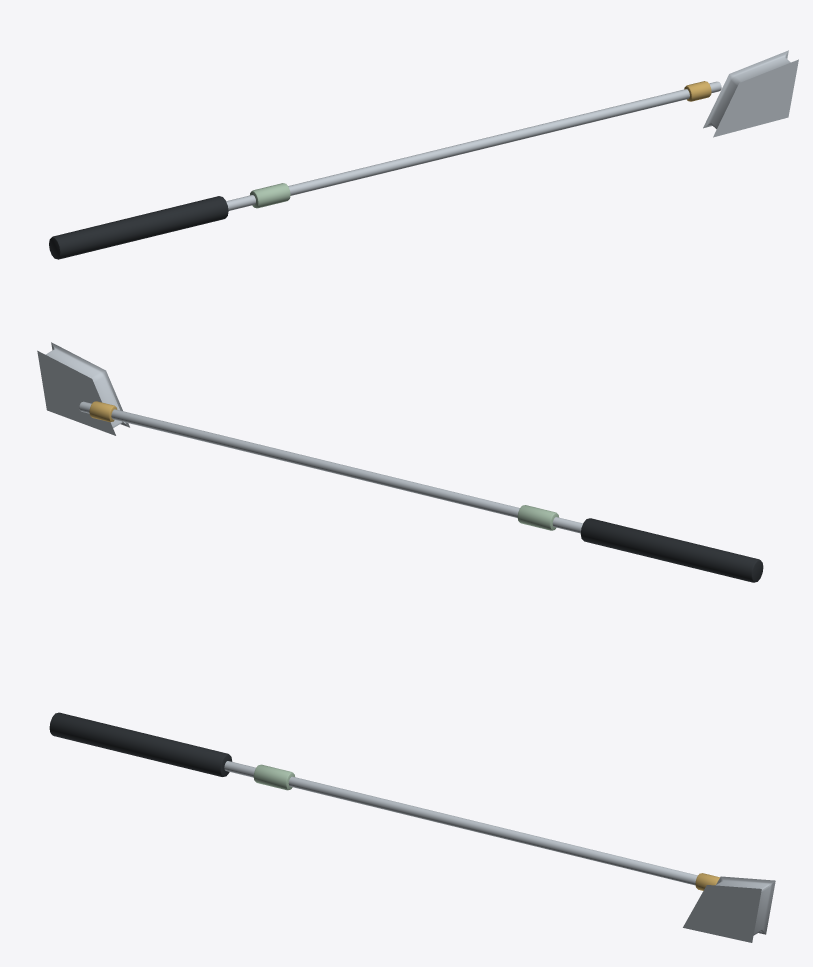
The model's file is checkout_product_wedge.glb.
3 renders of one model, top to bottom at view 1: azimuth 30°, elevation 25°; view 2: azimuth 150°, elevation 25°; view 3: azimuth 330°, elevation 25°, orthographic.
Parts seen in each view (by area): view 1: WedgeHead, ClubShaft, ClubGrip, SkuAccentBand; view 2: ClubShaft, ClubGrip, WedgeHead, SkuAccentBand; view 3: ClubShaft, ClubGrip, WedgeHead, SkuAccentBand.
Boxes of the visible parts, left/top/right/bottom form: WedgeHead: left=703, top=50, right=798, bottom=137; ClubShaft: left=226, top=81, right=721, bottom=210; ClubGrip: left=49, top=196, right=228, bottom=259; SkuAccentBand: left=250, top=183, right=290, bottom=208; ClubShaft: left=79, top=401, right=582, bottom=533; ClubGrip: left=580, top=518, right=763, bottom=582; WedgeHead: left=37, top=342, right=129, bottom=435; SkuAccentBand: left=517, top=505, right=558, bottom=530; ClubShaft: left=224, top=761, right=697, bottom=885; ClubGrip: left=49, top=712, right=232, bottom=776; WedgeHead: left=683, top=876, right=775, bottom=942; SkuAccentBand: left=253, top=764, right=294, bottom=790.
Bounding box in the file's own units: 1 × 0.1 × 0.12.
